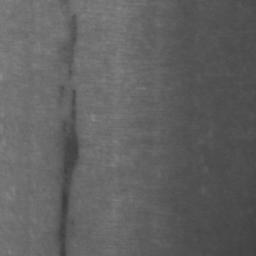Inclusion: (59, 91, 81, 256)
